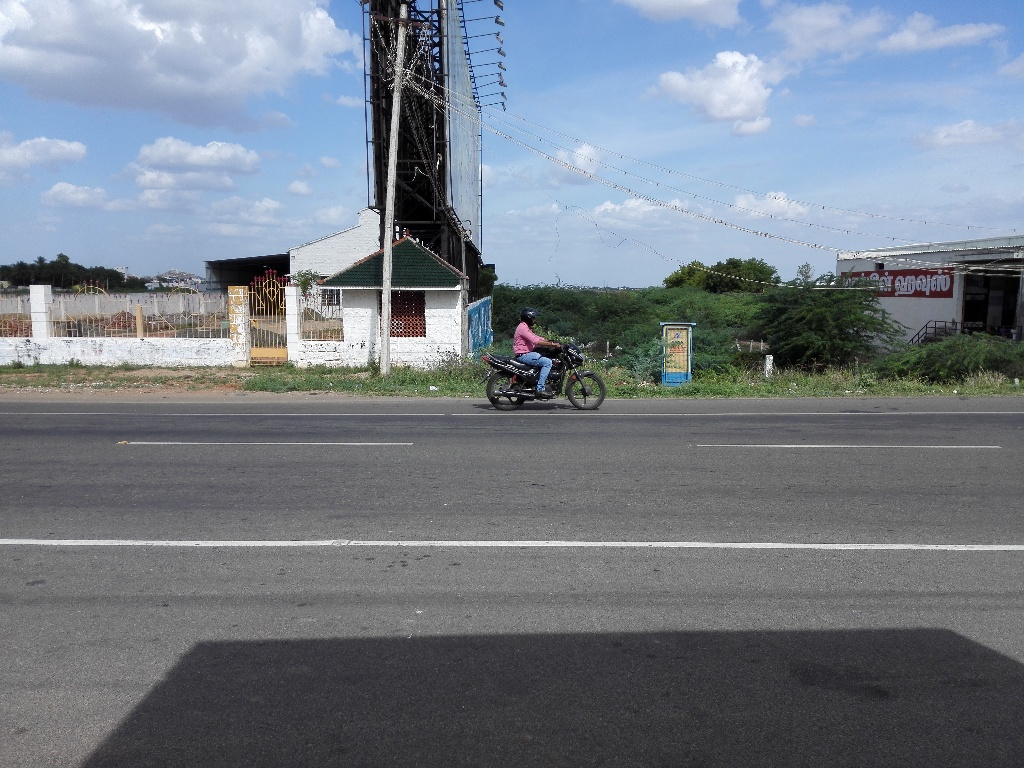biker: (467, 282, 630, 422)
helmet: (518, 302, 542, 331)
